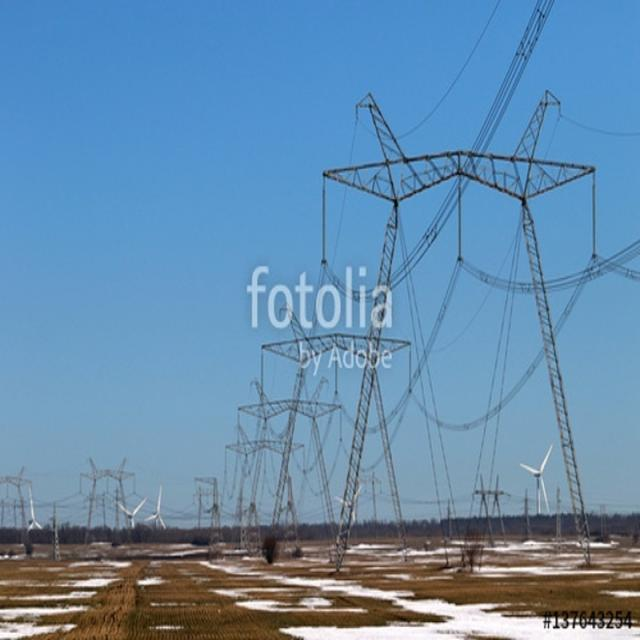non-critical vegetation: (324, 78, 620, 556), (265, 297, 420, 566)
